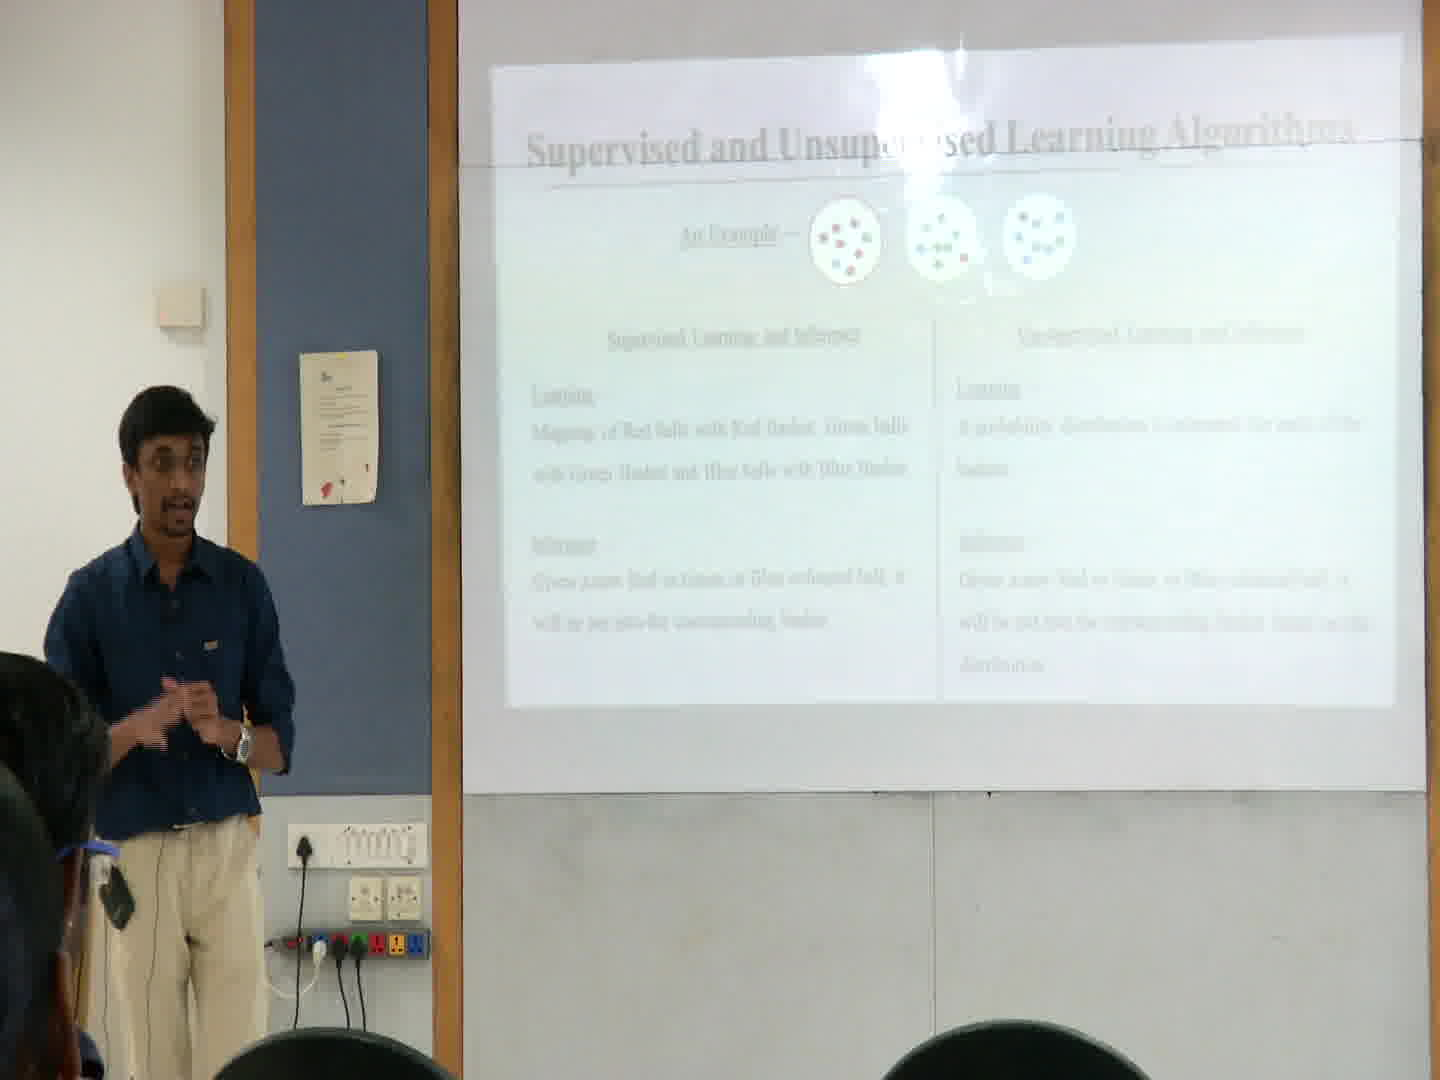fig: (804, 189, 888, 287), (1000, 188, 1081, 287)
